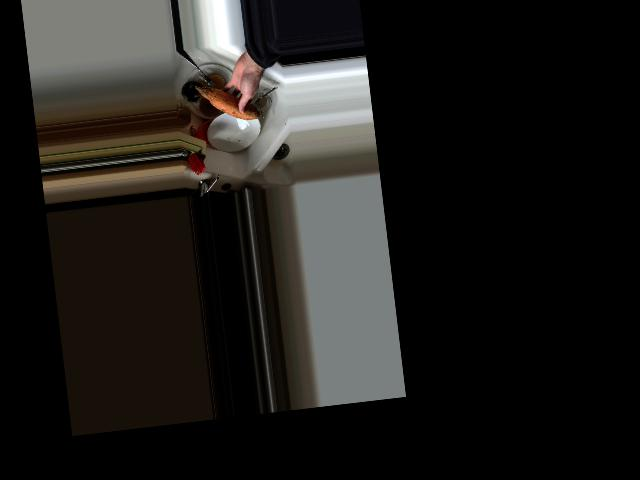sweet_potato: (196, 77, 261, 127)
